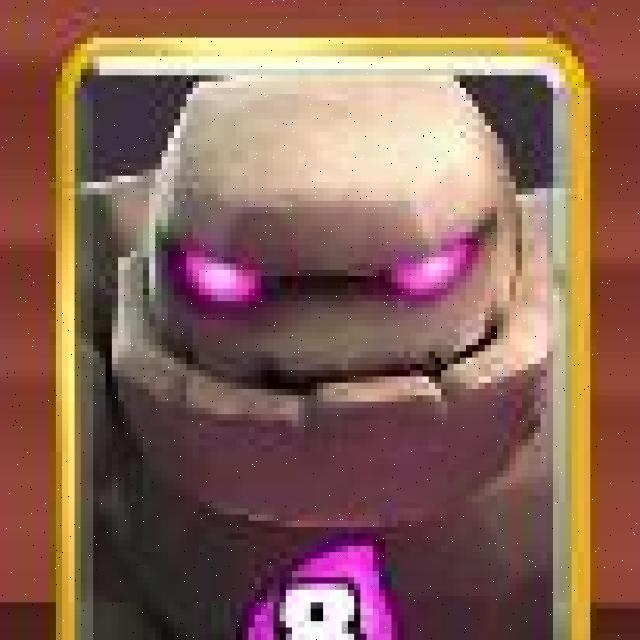Golem: (58, 35, 593, 640)
